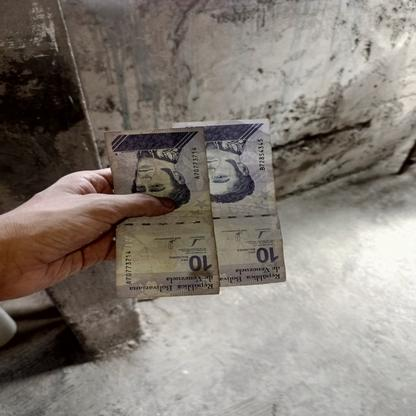ten-front-vef: (103, 126, 219, 300), (172, 118, 286, 286)
